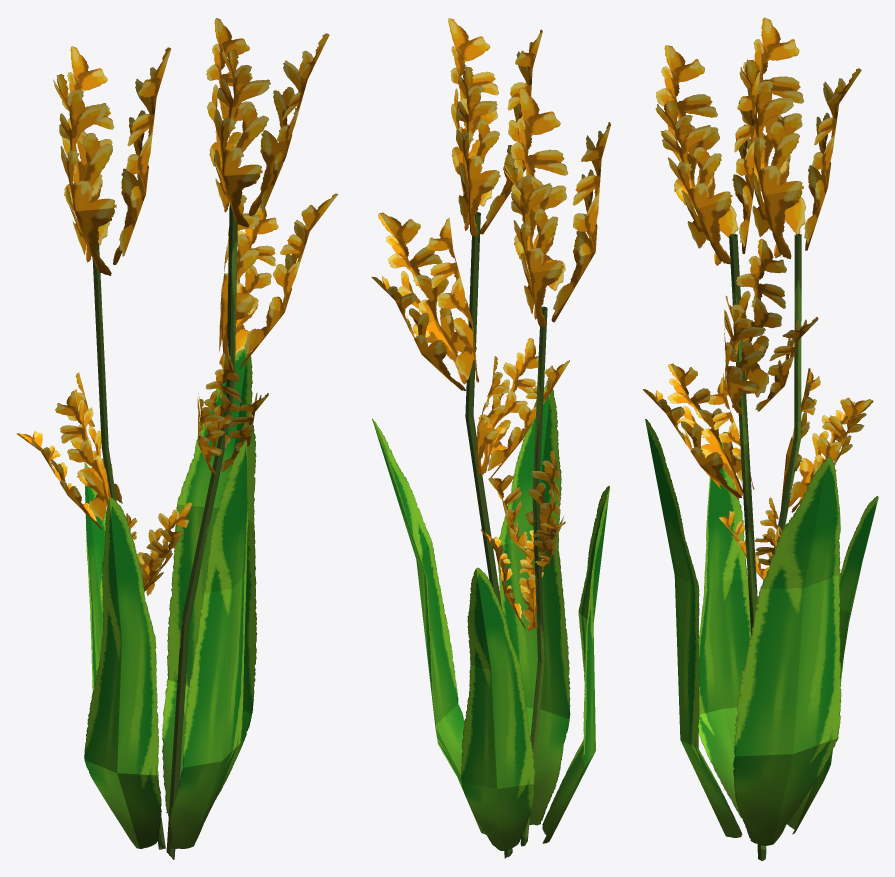
The model's file is V2_Stalk Plant.fbx.
3 renders of one model, left to right at view 1: azimuth 30°, elevation 25°; view 2: azimuth 150°, elevation 25°; view 3: azimuth 270°, elevation 25°, orthographic. The views are drawn at different scales.
Parts seen in each view (by area): view 1: Plane.024; view 2: Plane.024; view 3: Plane.024.
Part boxes in pixels (<box>): Plane.024: <box>16,18,337,859</box>; Plane.024: <box>371,18,610,858</box>; Plane.024: <box>642,17,878,860</box>.
Size of the model in its own units: 293 by 894 by 234.
Materials: 1 (1 with a texture image).
